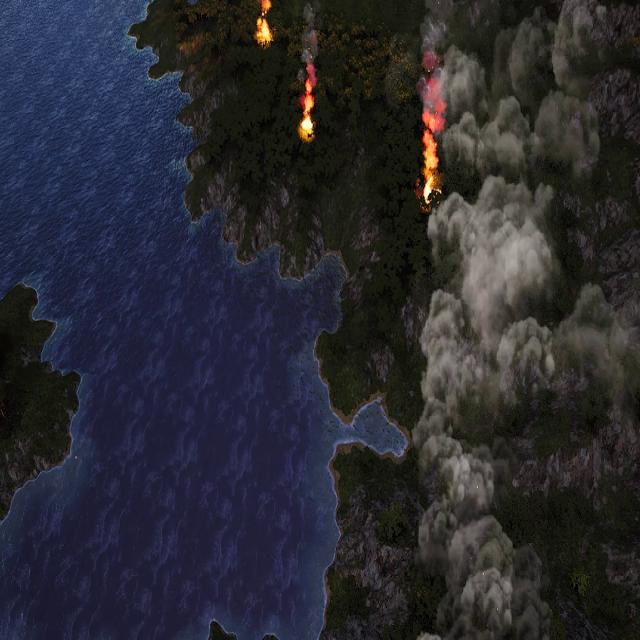fire: (419, 95, 445, 200), (300, 68, 318, 140), (297, 112, 313, 140), (258, 15, 274, 42), (261, 0, 273, 13)
smoke: (414, 0, 637, 639), (299, 0, 319, 89)
